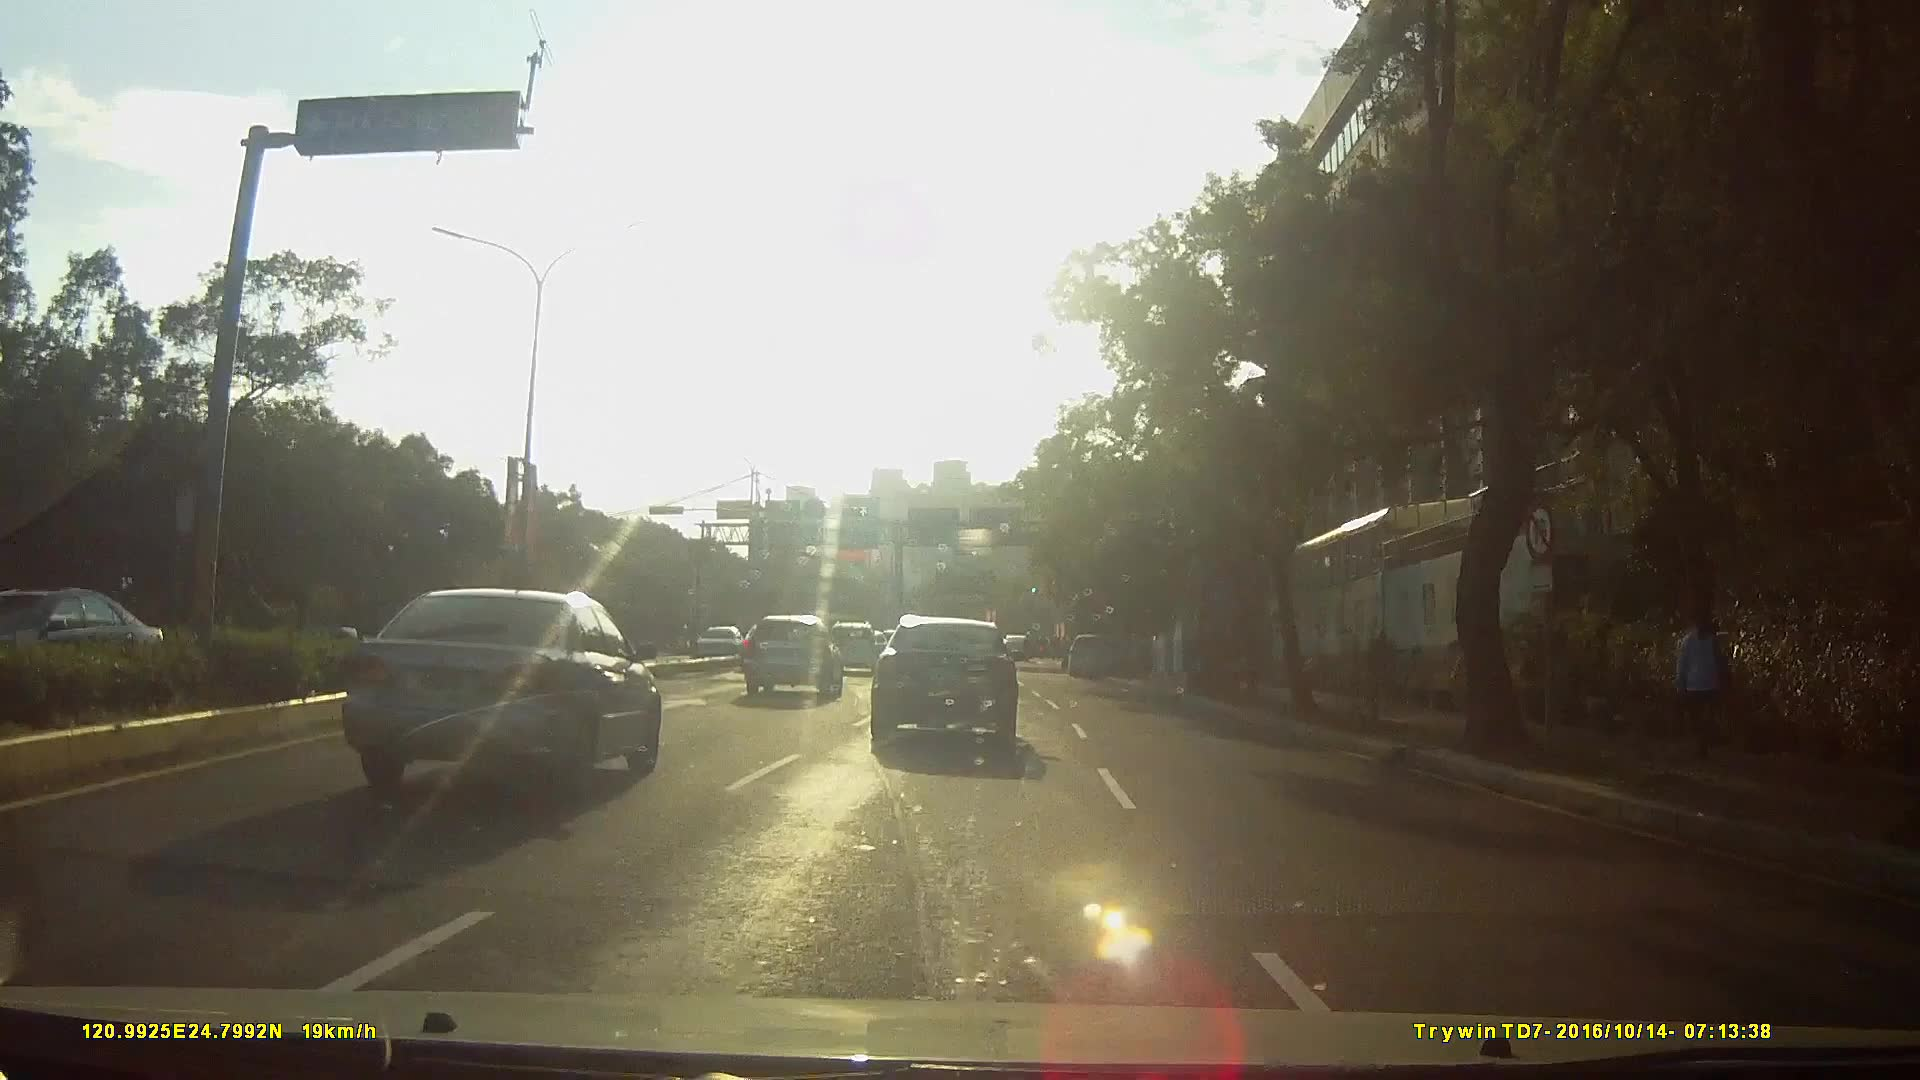pedestrian: (1676, 596, 1738, 769)
vehicle: (318, 583, 672, 804), (867, 612, 1036, 757), (1, 582, 183, 697), (736, 610, 838, 700), (818, 615, 876, 673), (692, 619, 749, 663), (1064, 629, 1116, 677)
